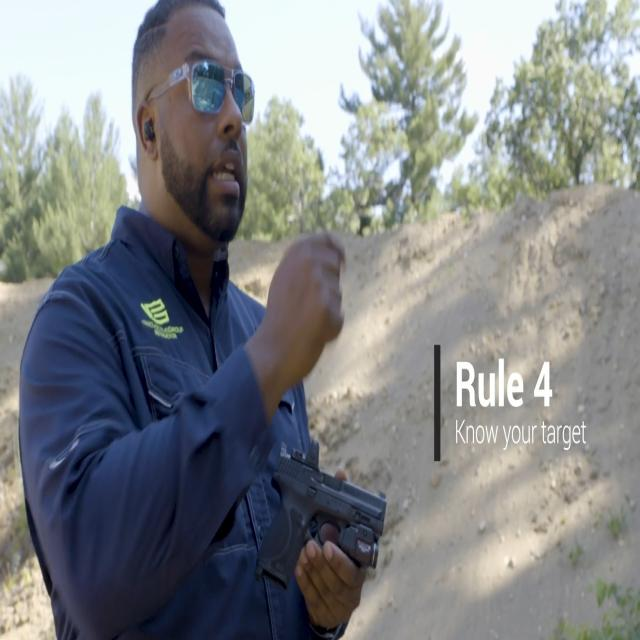Gun_Holder: (273, 433, 389, 620)
Person: (20, 2, 357, 626)
